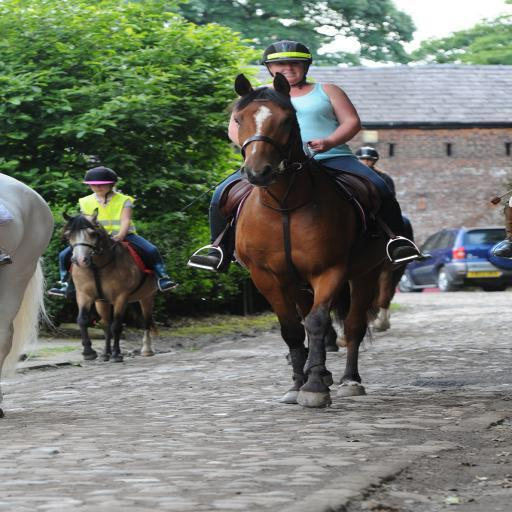horse: (218, 70, 388, 408), (55, 206, 159, 362), (0, 174, 55, 420)
